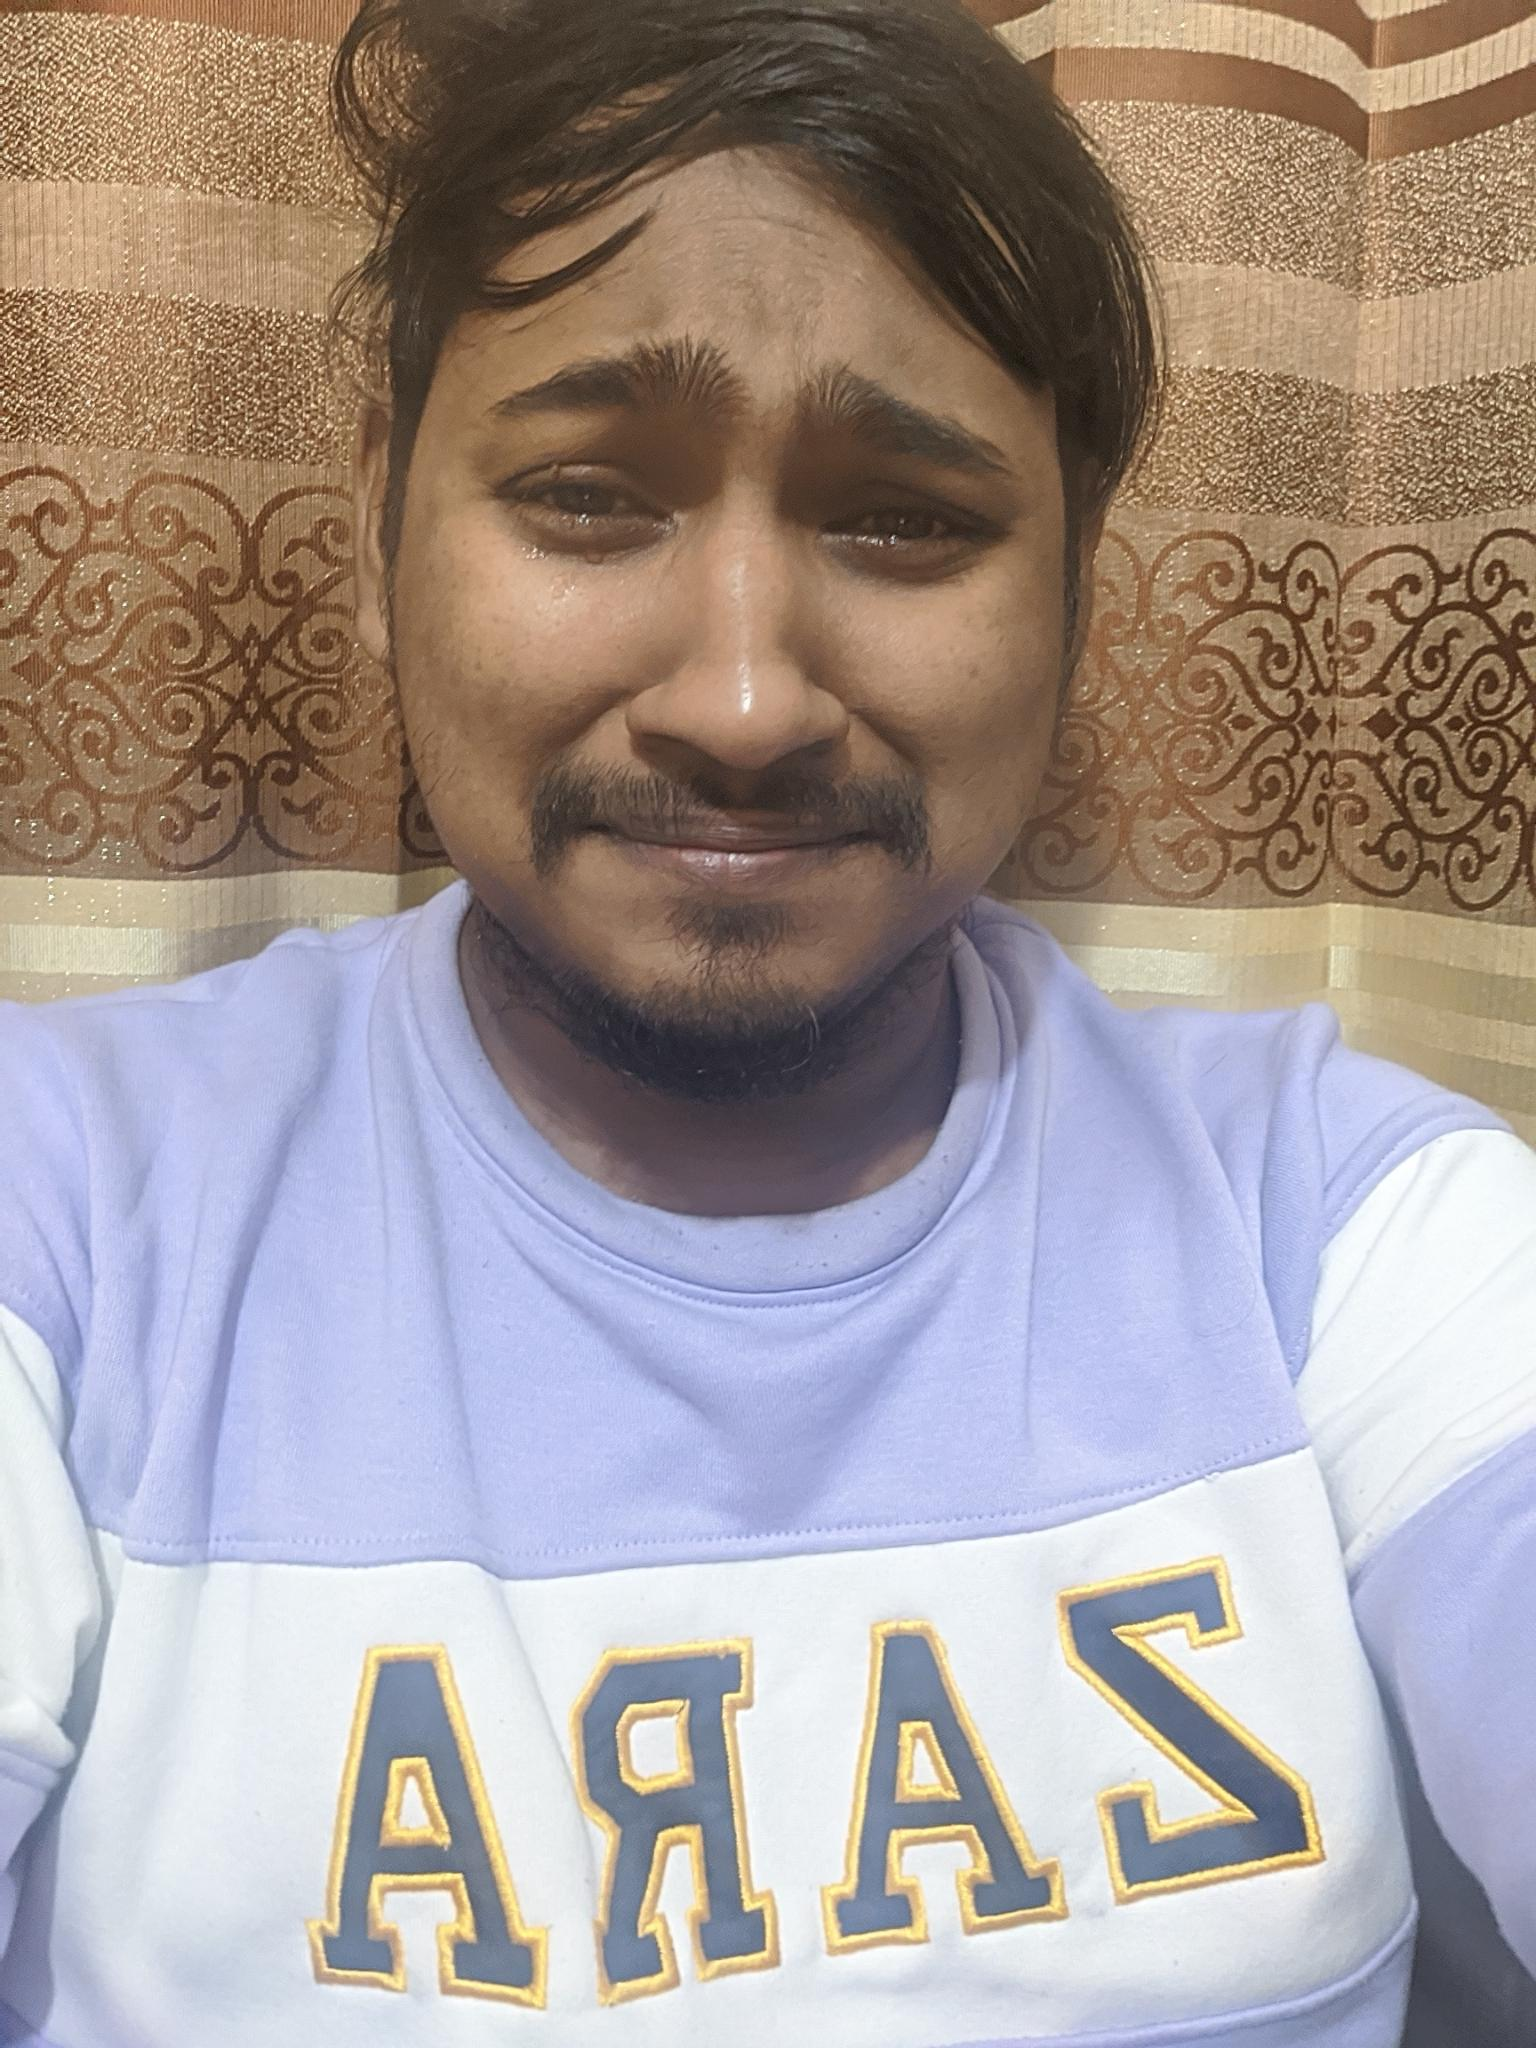Sad: (415, 260, 1065, 1080)
